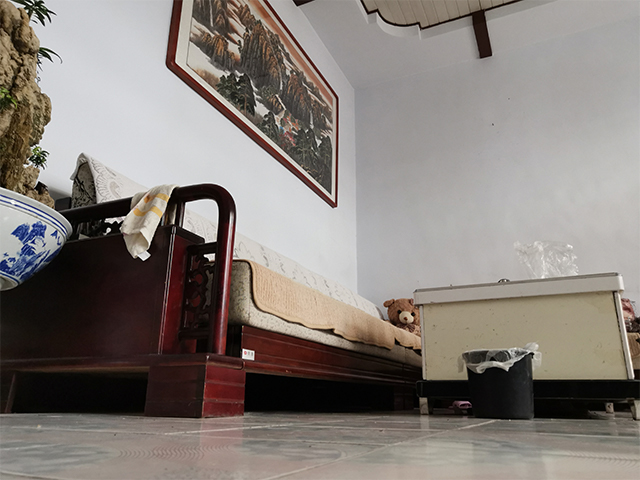sofa: (1, 152, 424, 420)
table: (411, 269, 640, 422)
trashcan: (459, 347, 539, 421)
